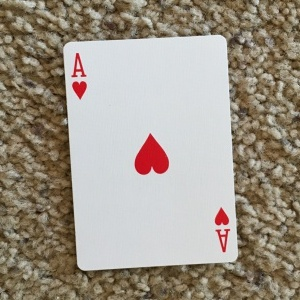card: (61, 34, 239, 266)
